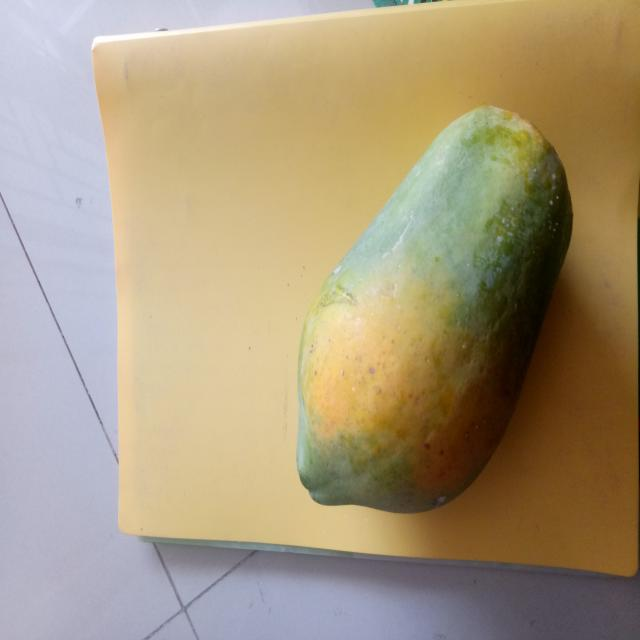Pepaya rippen: (271, 96, 588, 523)
